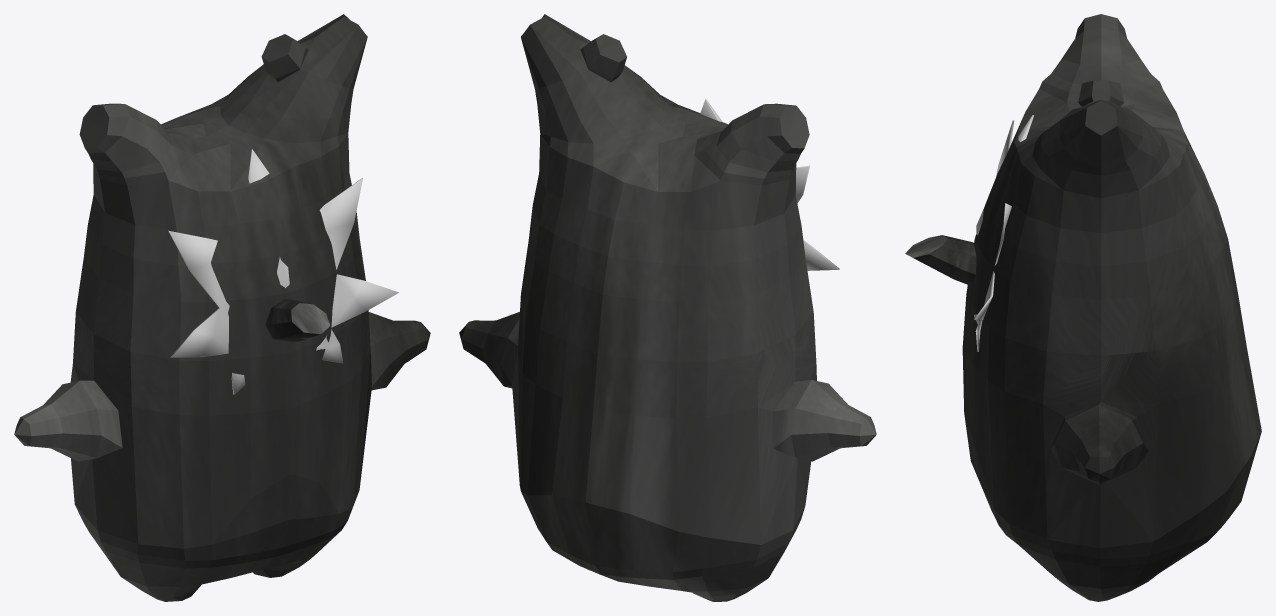
Rendered from frame_0004.obj.
The picture shows the model from 3 angles, left to right: view 1: azimuth 30°, elevation 25°; view 2: azimuth 150°, elevation 25°; view 3: azimuth 270°, elevation 25°; orthographic projection.
Visible parts, largest first — view 1: korok, leaf, nose.003_柱体.011; view 2: korok, leaf; view 3: korok, nose.003_柱体.011, leaf.
Boxes of the visible parts, x1,y1,x2,y2 form: korok: [14, 14, 430, 601]; leaf: [168, 149, 398, 394]; nose.003_柱体.011: [265, 299, 330, 341]; korok: [459, 14, 876, 601]; leaf: [700, 99, 839, 270]; korok: [962, 14, 1261, 601]; nose.003_柱体.011: [905, 235, 976, 286]; leaf: [974, 115, 1033, 351].
Bounding box in the file's own units: 1.92 × 2.38 × 1.44.
